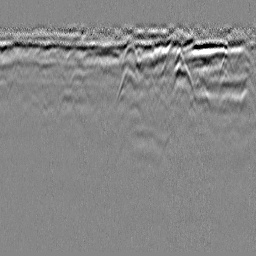cavity: (115, 63, 140, 100)
